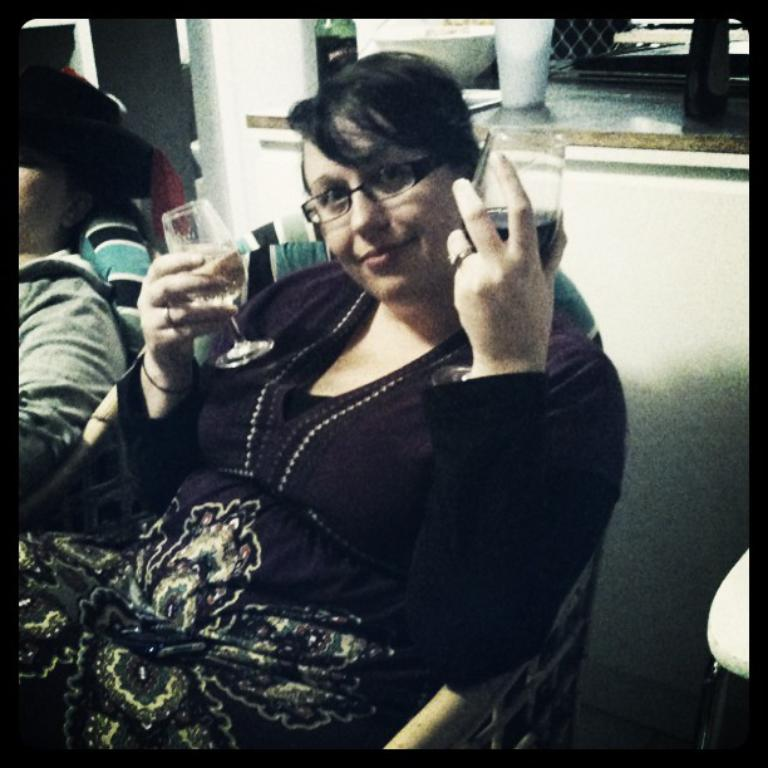Human_hand: (443, 148, 570, 368), (120, 222, 237, 348)
